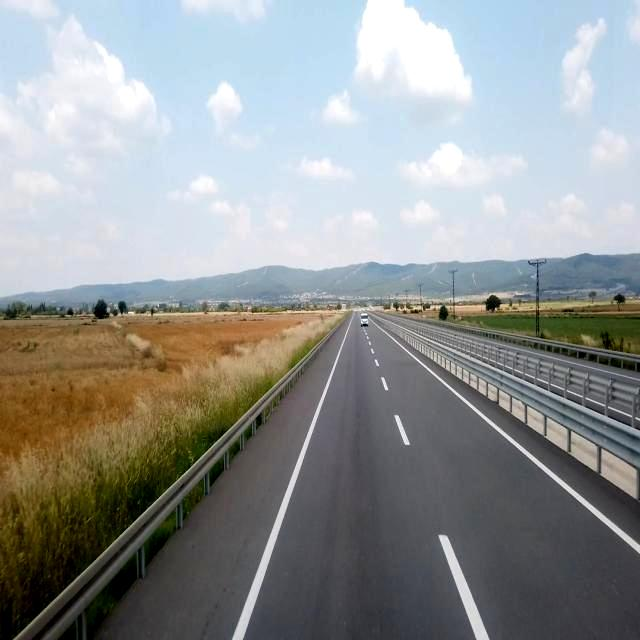road: (93, 314, 639, 639)
